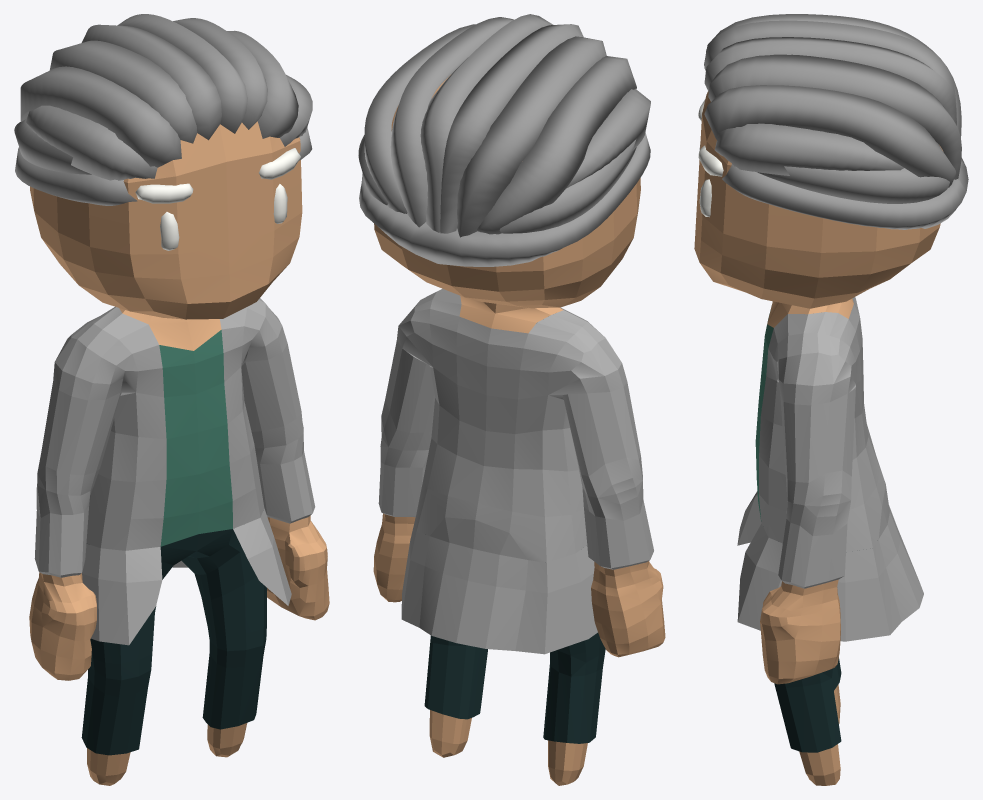
File: debout-doctor-male-old.glb
3 renders of one model, left to right at view 1: azimuth 30°, elevation 25°; view 2: azimuth 150°, elevation 25°; view 3: azimuth 270°, elevation 25°, orthographic.
Parts seen in each view (by area): view 1: CUNurbsPath010_3, CUNurbsPath010_2, CUNurbsPath010, CUNurbsPath010_5, CUNurbsPath010_4, CUNurbsPath010_1; view 2: CUNurbsPath010_3, CUNurbsPath010, CUNurbsPath010_2, CUNurbsPath010_5; view 3: CUNurbsPath010, CUNurbsPath010_3, CUNurbsPath010_2, CUNurbsPath010_5, CUNurbsPath010_1, CUNurbsPath010_4.
Boxes of the visible parts, box(x1,y1,x2,y2) form: CUNurbsPath010_3: box(34, 298, 315, 645); CUNurbsPath010_2: box(29, 121, 329, 785); CUNurbsPath010: box(14, 14, 312, 205); CUNurbsPath010_5: box(81, 529, 266, 755); CUNurbsPath010_4: box(159, 330, 232, 546); CUNurbsPath010_1: box(135, 148, 300, 250); CUNurbsPath010_3: box(378, 288, 653, 654); CUNurbsPath010: box(358, 14, 650, 266); CUNurbsPath010_2: box(373, 75, 665, 785); CUNurbsPath010_5: box(424, 632, 605, 743); CUNurbsPath010: box(704, 14, 968, 229); CUNurbsPath010_3: box(737, 297, 923, 641); CUNurbsPath010_2: box(694, 91, 943, 785); CUNurbsPath010_5: box(774, 657, 841, 752); CUNurbsPath010_1: box(698, 99, 723, 217); CUNurbsPath010_4: box(755, 310, 773, 520).
Size of the model in its own units: 0.6966 by 1.71 by 0.5853.
